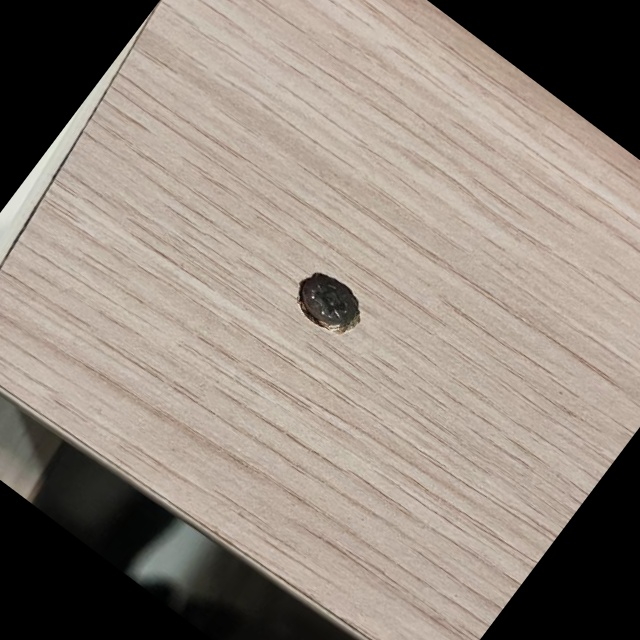pozidriv: (290, 263, 367, 337)
